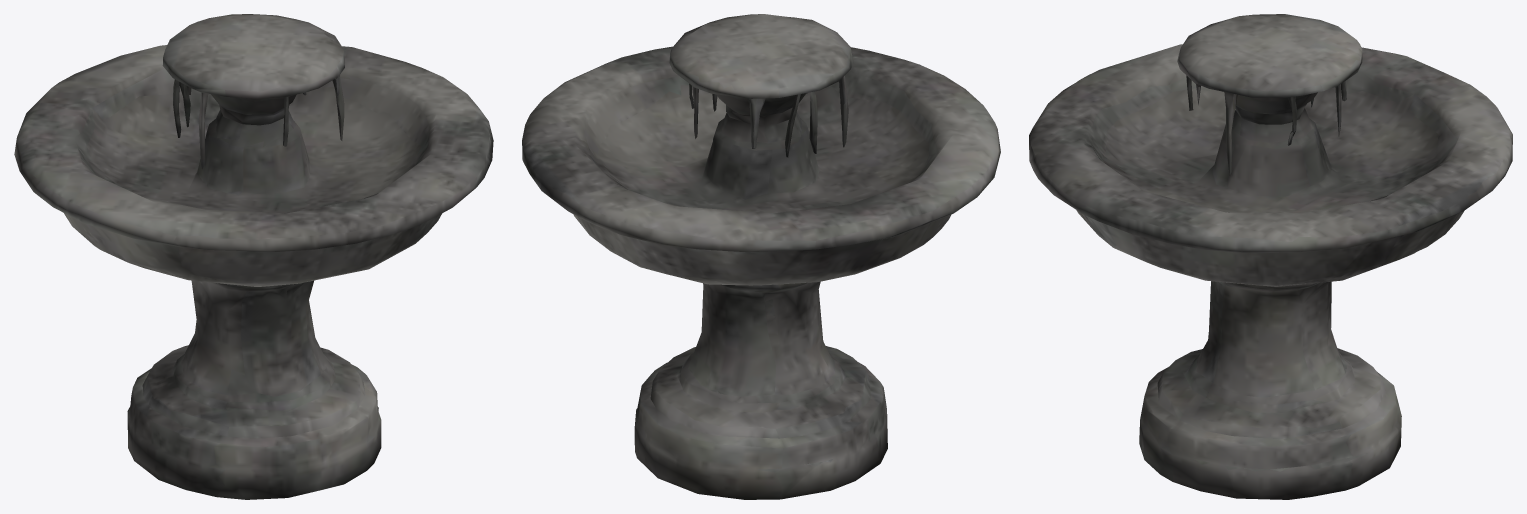
The model's file is old-granite-fountain-v001.glb.
3 renders of one model, left to right at view 1: azimuth 30°, elevation 25°; view 2: azimuth 150°, elevation 25°; view 3: azimuth 270°, elevation 25°, orthographic.
Visible parts, largest first — view 1: old-granite-fountain; view 2: old-granite-fountain; view 3: old-granite-fountain.
Boxes of the visible parts, x1,y1,x2,y2 form: old-granite-fountain: (14, 14, 493, 499); old-granite-fountain: (522, 14, 1000, 499); old-granite-fountain: (1029, 14, 1512, 499).
Size of the model in its own units: 1.51 by 1.4 by 1.52.
Materials: 1 (1 with a texture image).
